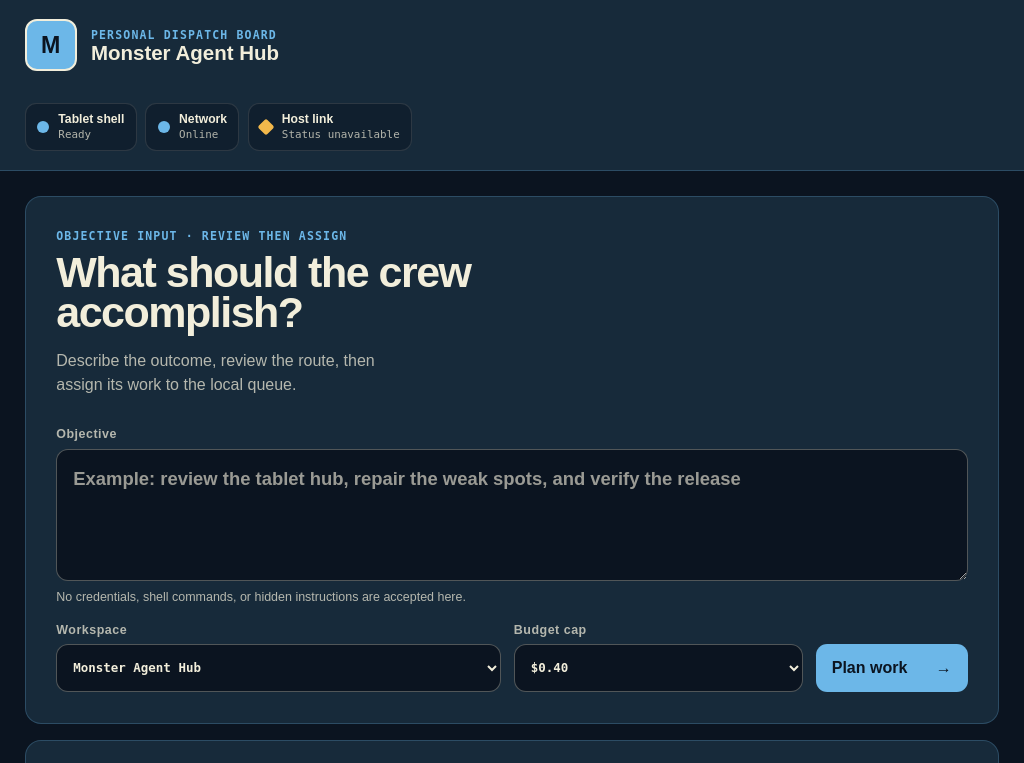
Monster Agent Hub tablet shell › keeps an empty objective unchanged and explains the safe next action
Click the button "Plan work →".
click(892, 668)  # box [816,644,968,692]
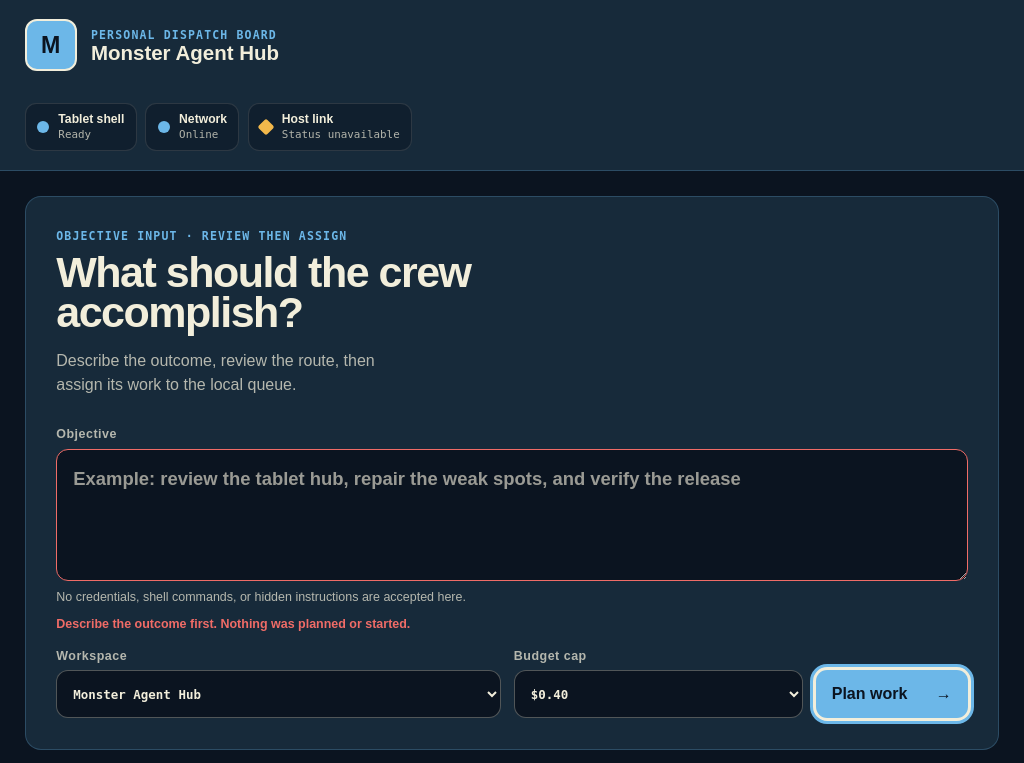
Check: the message reads "Describe the outcome first. Nothing was planned or started.", box [56,617,410,631]
